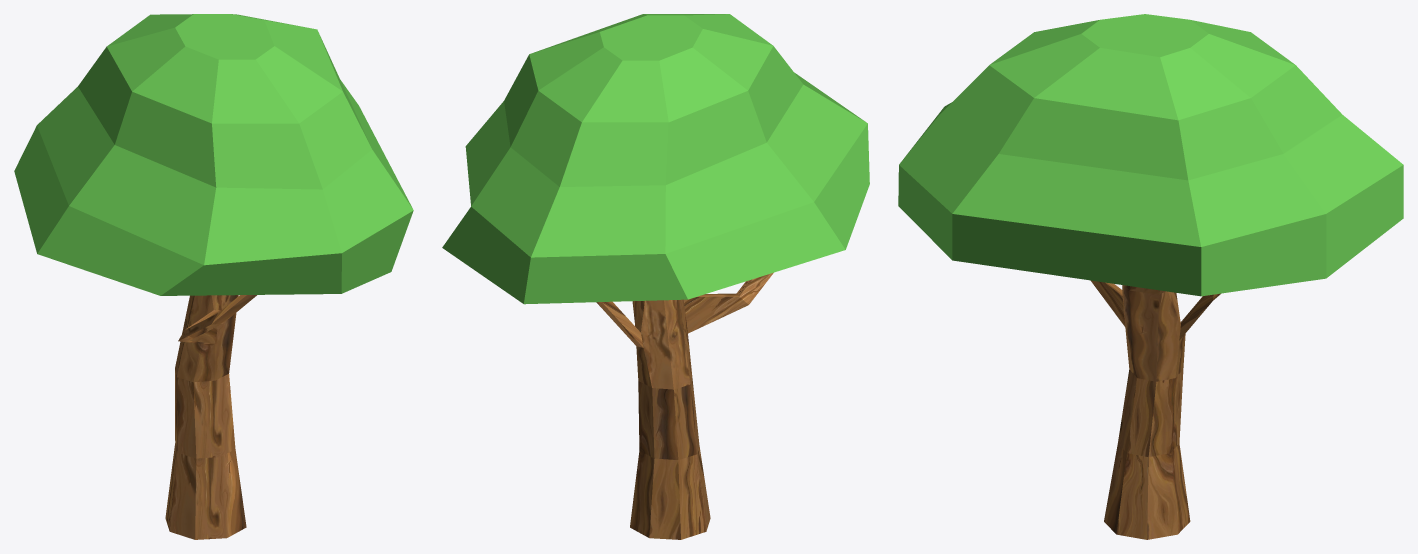
Rendered from Baumharter.fbx.
The picture shows the model from 3 angles, left to right: view 1: azimuth 30°, elevation 25°; view 2: azimuth 150°, elevation 25°; view 3: azimuth 270°, elevation 25°; orthographic projection. The views are drawn at different scales.
Visible parts, largest first — view 1: Cylinder; view 2: Cylinder; view 3: Cylinder.
Part boxes in pixels (x1=…): Cylinder: x1=14, y1=14, x2=413, y2=539; Cylinder: x1=442, y1=14, x2=869, y2=539; Cylinder: x1=898, y1=14, x2=1403, y2=539.
Size of the model in its own units: 967 by 1267 by 1168.
